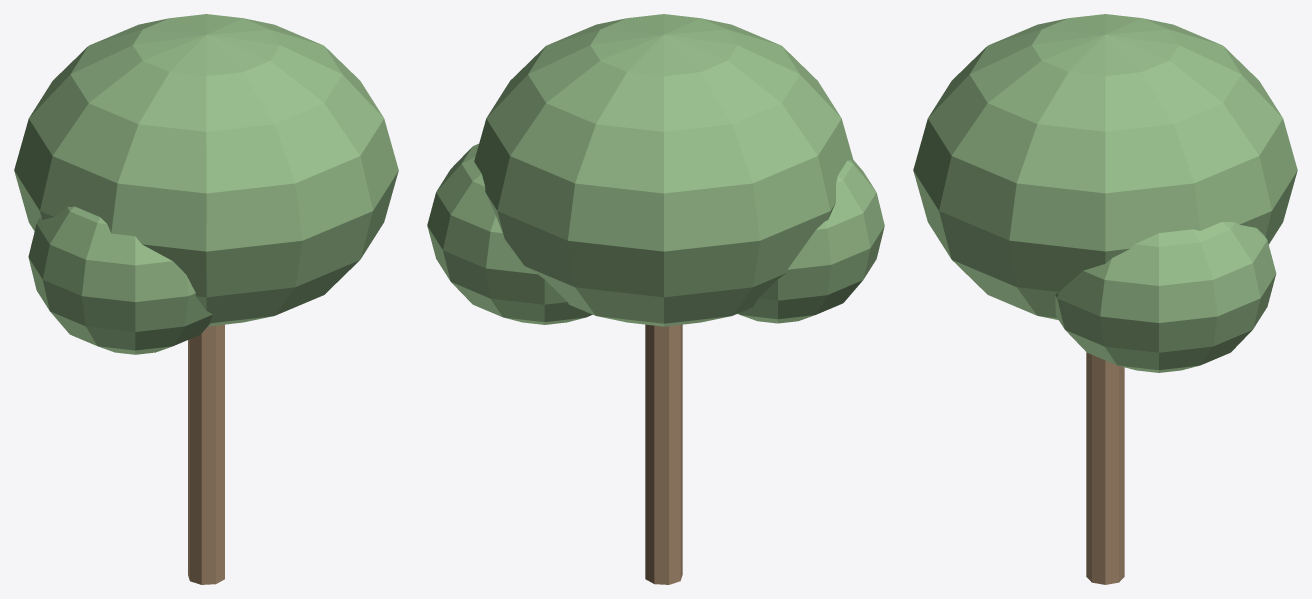
The model's file is linden_street.glb.
The picture shows the model from 3 angles, left to right: view 1: azimuth 30°, elevation 25°; view 2: azimuth 150°, elevation 25°; view 3: azimuth 270°, elevation 25°; orthographic projection.
Visible parts, largest first — view 1: canopy1, canopy3, trunk; view 2: canopy1, canopy2, canopy3, trunk; view 3: canopy1, canopy2, trunk.
Part boxes in pixels (x1,y1,x2,y2): canopy1: (14,14,398,326); canopy3: (28,206,212,354); trunk: (188,324,224,584); canopy1: (474,14,853,326); canopy2: (427,143,592,324); canopy3: (737,160,884,323); trunk: (645,324,682,584); canopy1: (913,14,1297,320); canopy2: (1055,222,1276,372); trunk: (1086,352,1124,584).
Size of the model in its own units: 4.1 by 5.6 by 3.6.
